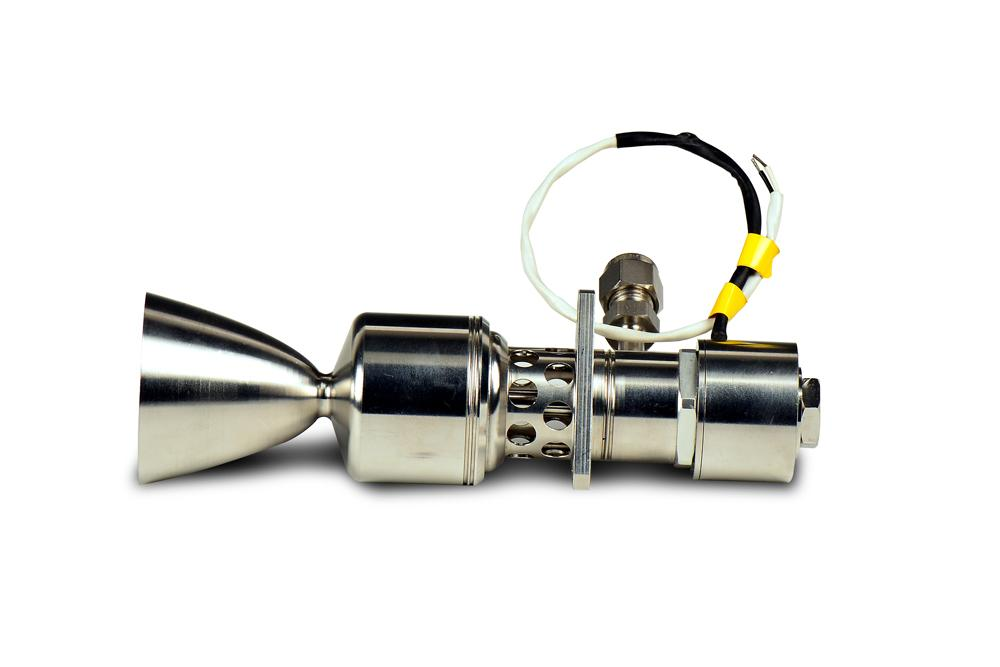thruster: (132, 292, 321, 486)
